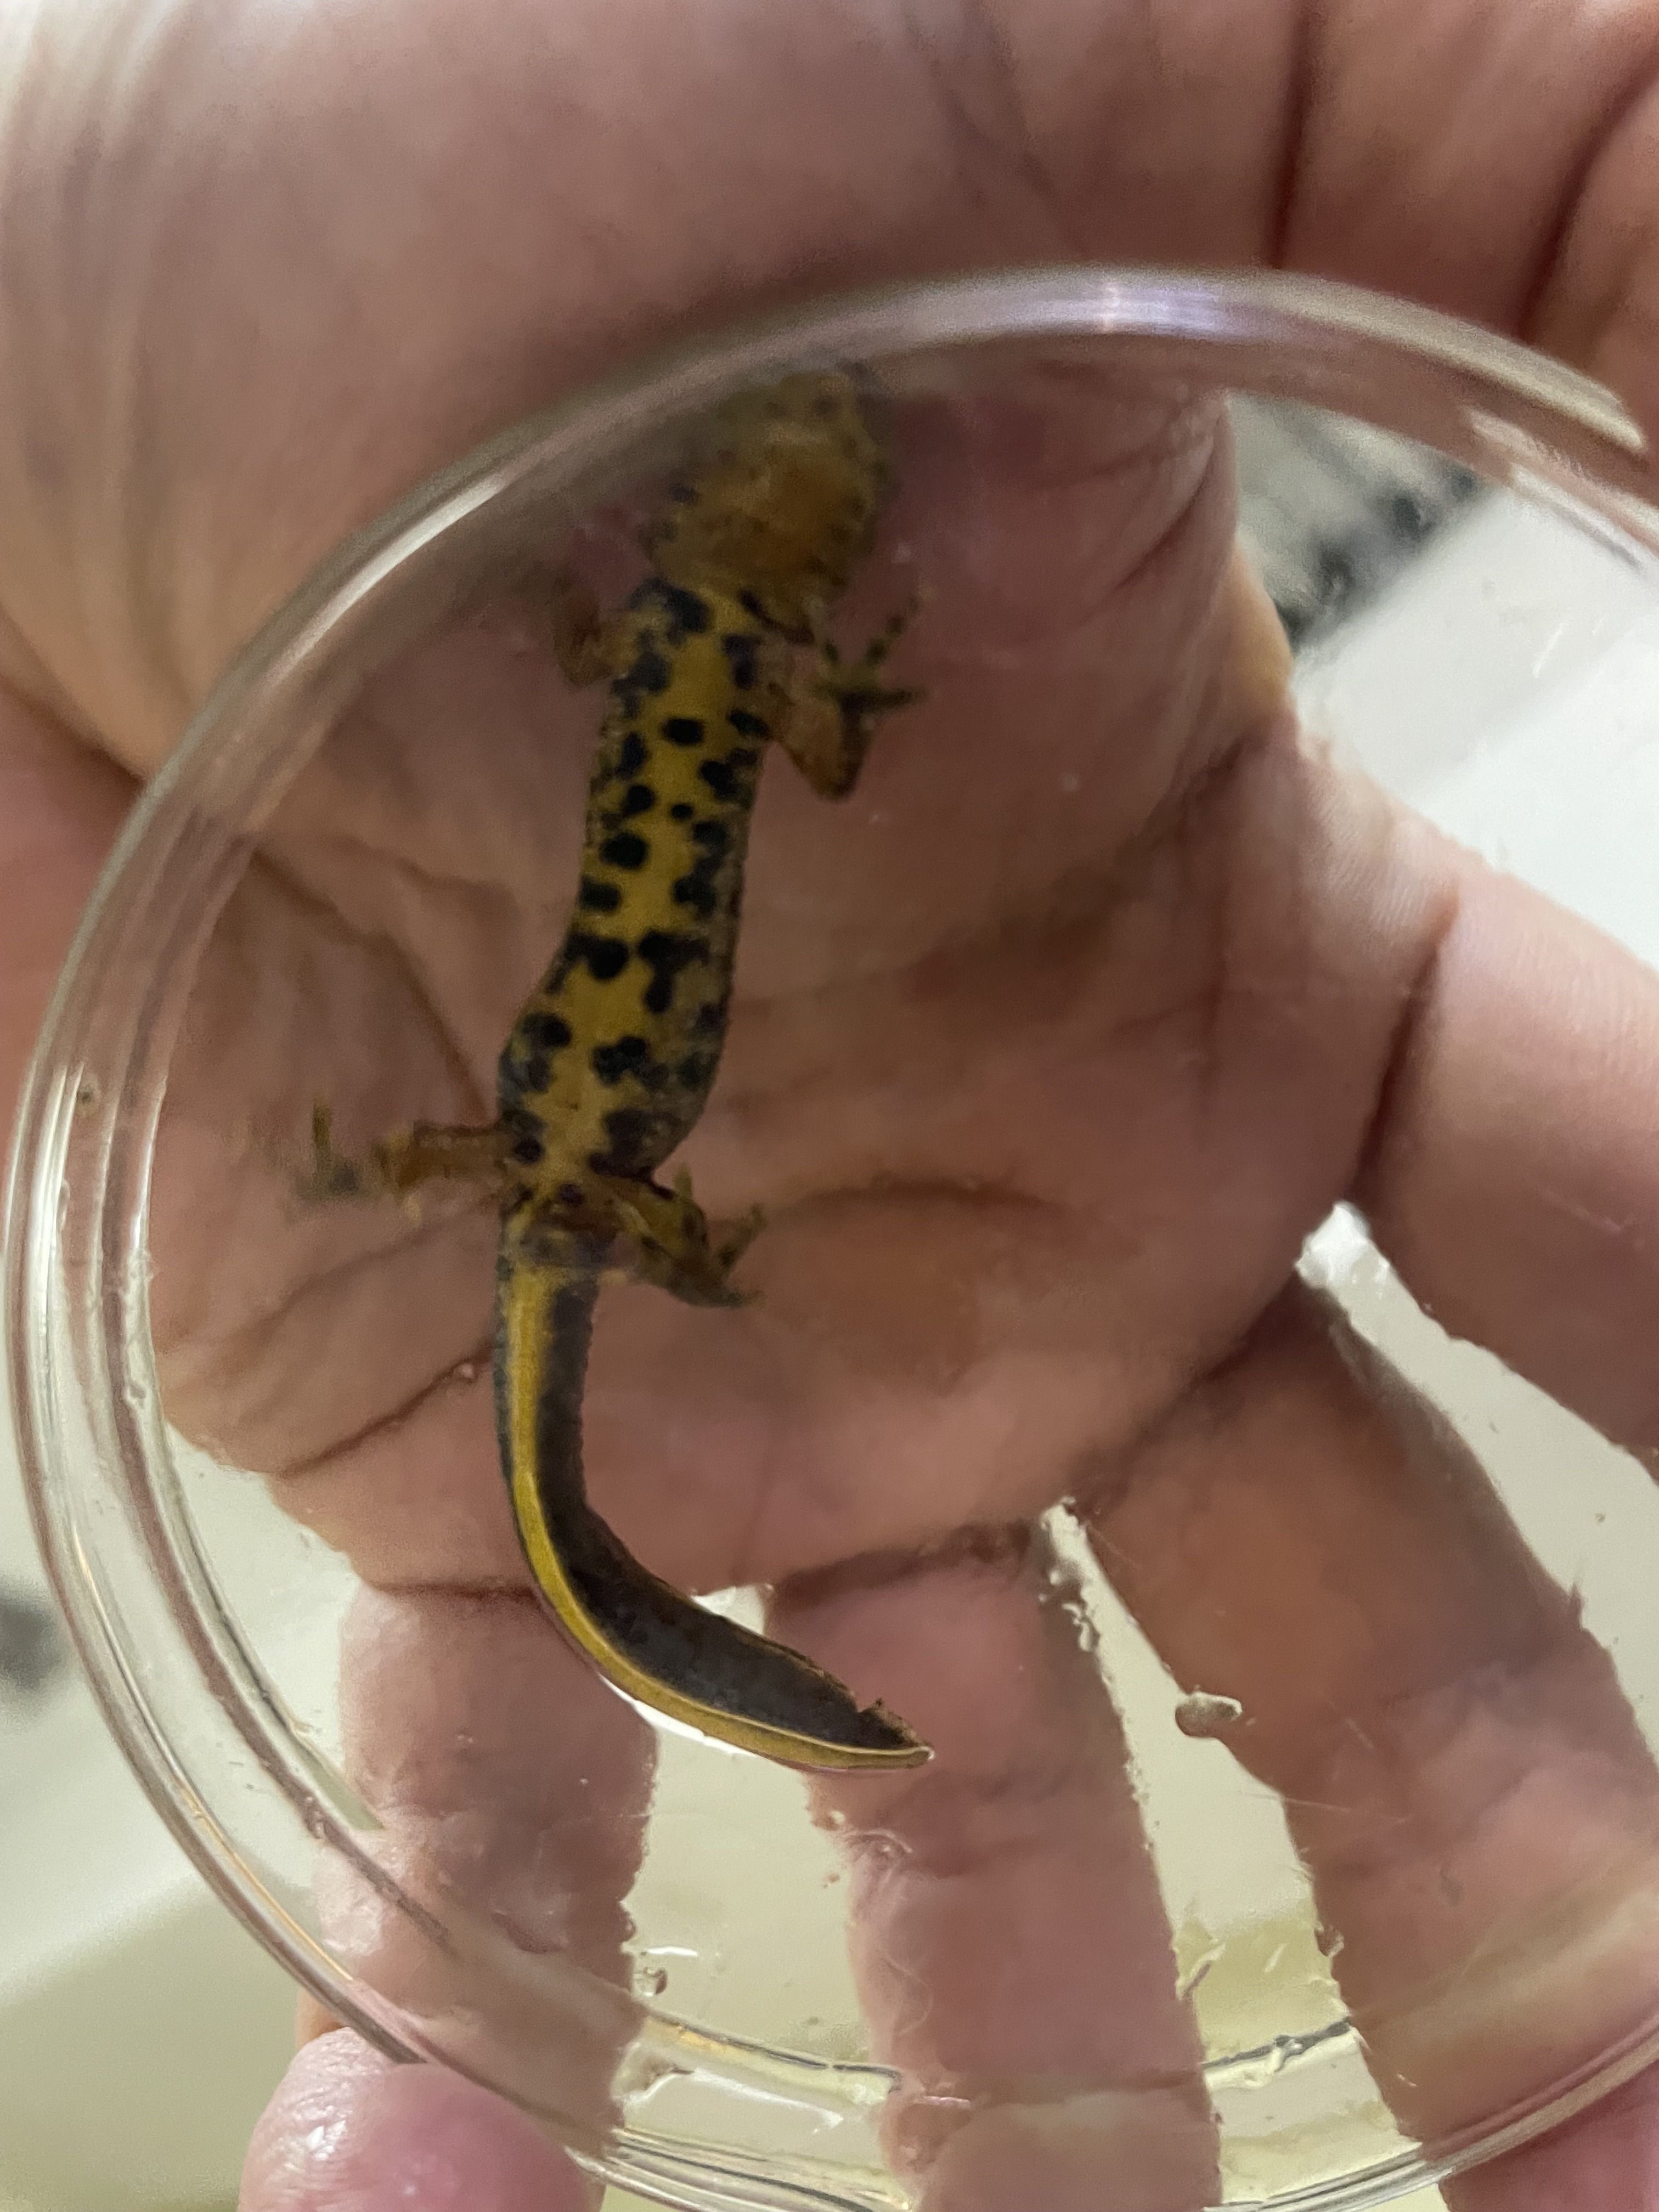Karelin_newt: (497, 683, 772, 1176)
